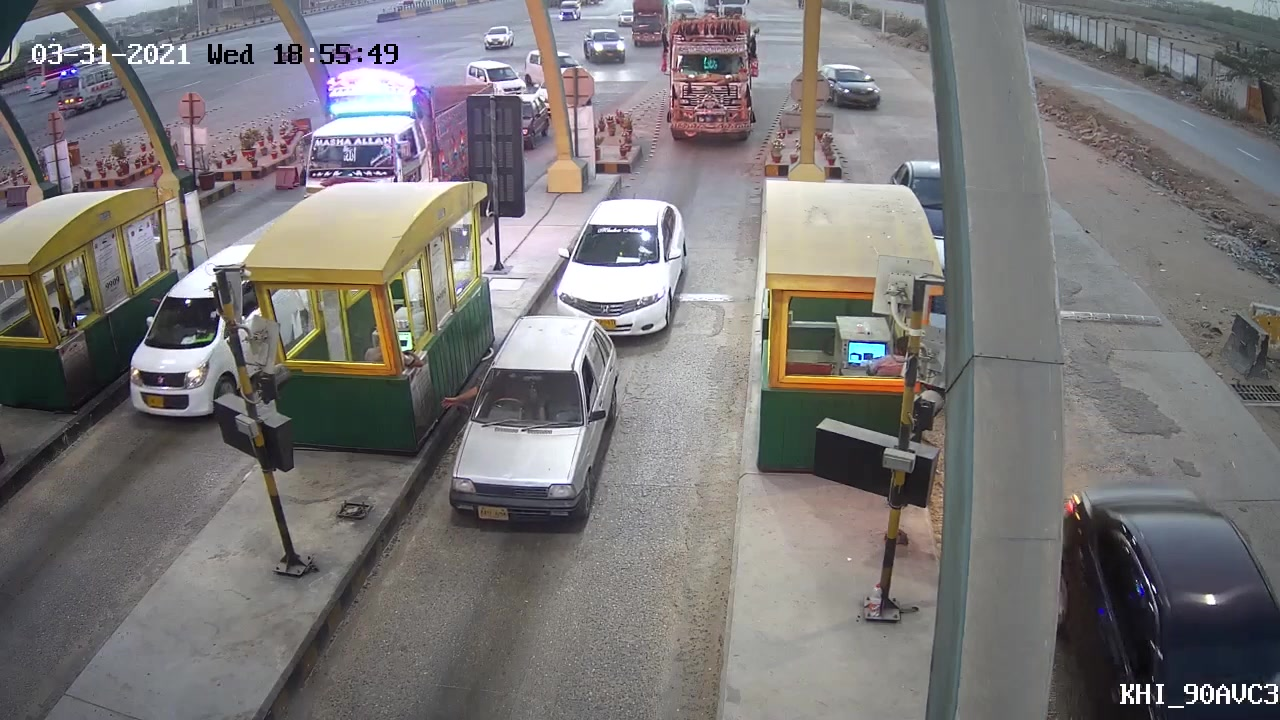F1: (425, 308, 624, 534), (537, 197, 698, 343)
